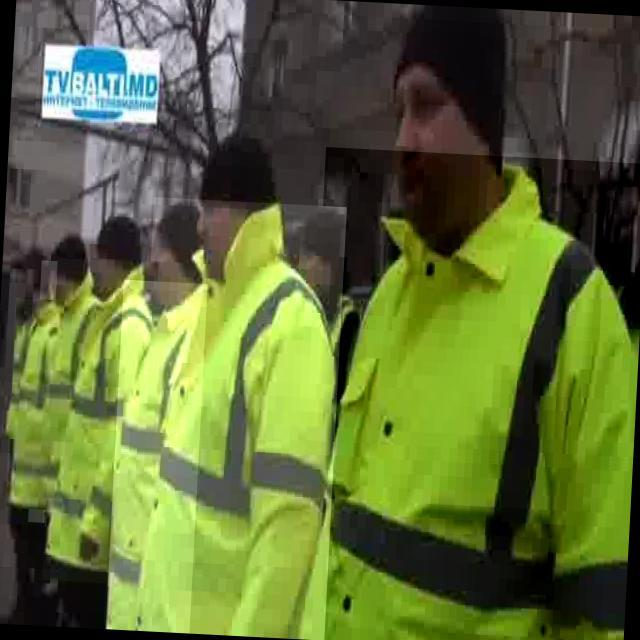Safety Vest: (300, 147, 640, 640), (131, 197, 346, 640), (42, 258, 159, 585), (106, 280, 208, 634), (29, 261, 103, 526), (5, 299, 64, 511)
